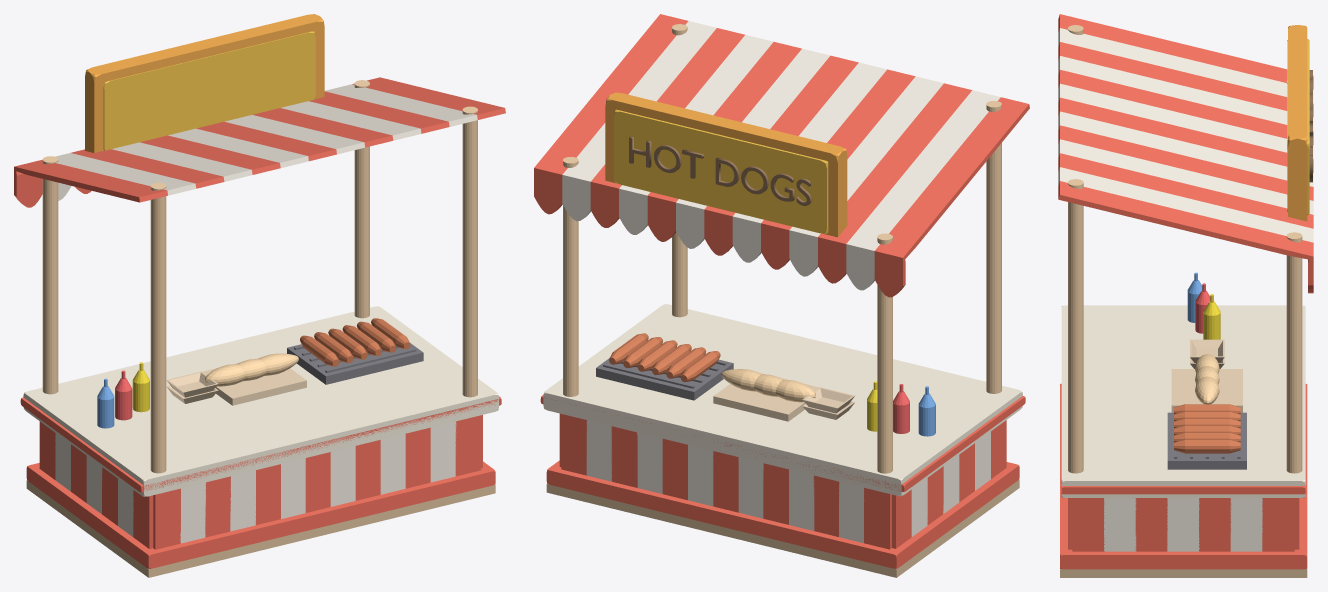
File: 33-hot-dog-stand-hd11.glb
3 renders of one model, left to right at view 1: azimuth 30°, elevation 25°; view 2: azimuth 150°, elevation 25°; view 3: azimuth 270°, elevation 25°, orthographic.
Visible parts, largest first — view 1: Countertop, Canopy, SignPlate, BaseTrim, SignFrame, Post_2, Post_3, BasePlate, Post_0, CounterRim, Post_1, GrillTray (+23 smaller); view 2: Canopy, Countertop, SignPlate, BaseTrim, SignFrame, BasePlate, Post_2, Post_1, Post_0, SignText, GrillTray, BunTray (+25 smaller); view 3: Canopy, Countertop, BaseTrim, Post_3, SignFrame, Post_1, BasePlate, CounterRim, BunTray, GrillTray, Skirt_right_0, Skirt_right_1 (+16 smaller).
Part boxes in pixels (x1,y1,x2,y2): Countertop: [23, 306, 498, 496]; Canopy: [14, 77, 505, 207]; SignPlate: [103, 31, 315, 150]; BaseTrim: [26, 461, 495, 568]; SignFrame: [85, 14, 324, 152]; Post_2: [150, 182, 166, 473]; Post_3: [462, 106, 477, 397]; BasePlate: [26, 480, 495, 577]; Post_0: [42, 156, 58, 394]; CounterRim: [20, 396, 501, 492]; Post_1: [354, 80, 369, 318]; GrillTray: [287, 343, 423, 384]; Canopy: [534, 14, 1029, 297]; Countertop: [543, 304, 1022, 496]; SignPlate: [614, 109, 828, 233]; BaseTrim: [546, 460, 1019, 568]; SignFrame: [605, 92, 847, 237]; BasePlate: [546, 479, 1019, 577]; Post_2: [986, 100, 1001, 393]; Post_1: [563, 157, 578, 396]; Post_0: [877, 233, 892, 473]; SignText: [629, 136, 811, 205]; GrillTray: [596, 358, 733, 400]; BunTray: [713, 373, 818, 421]; Canopy: [1058, 14, 1313, 293]; Countertop: [1061, 305, 1305, 497]; BaseTrim: [1060, 383, 1307, 569]; Post_3: [1068, 179, 1083, 473]; SignFrame: [1288, 25, 1307, 221]; Post_1: [1286, 232, 1302, 473]; BasePlate: [1060, 568, 1307, 577]; CounterRim: [1061, 486, 1305, 494]; BunTray: [1171, 369, 1242, 412]; GrillTray: [1167, 412, 1246, 469]; Skirt_right_0: [1262, 498, 1294, 551]; Skirt_right_1: [1230, 498, 1262, 551].
Size of the model in its own units: 2.7 by 2.86 by 1.61.
